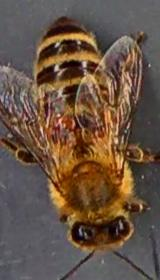varroa_mite: (54, 108, 78, 134)
